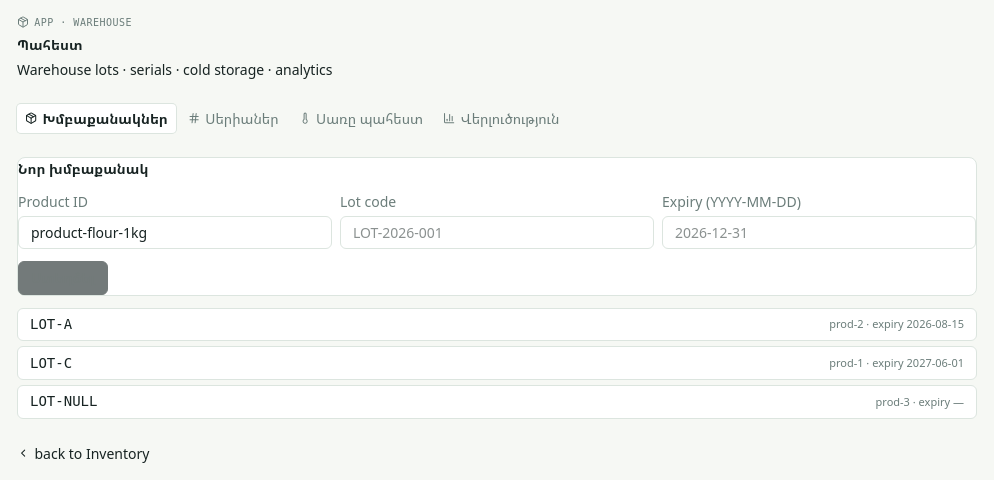
Warehouse — tab strip › switches to the Cold Storage tab on click
Click the tab with test id "warehouse-tab-cold".
click(361, 118)  # box [290, 104, 431, 132]
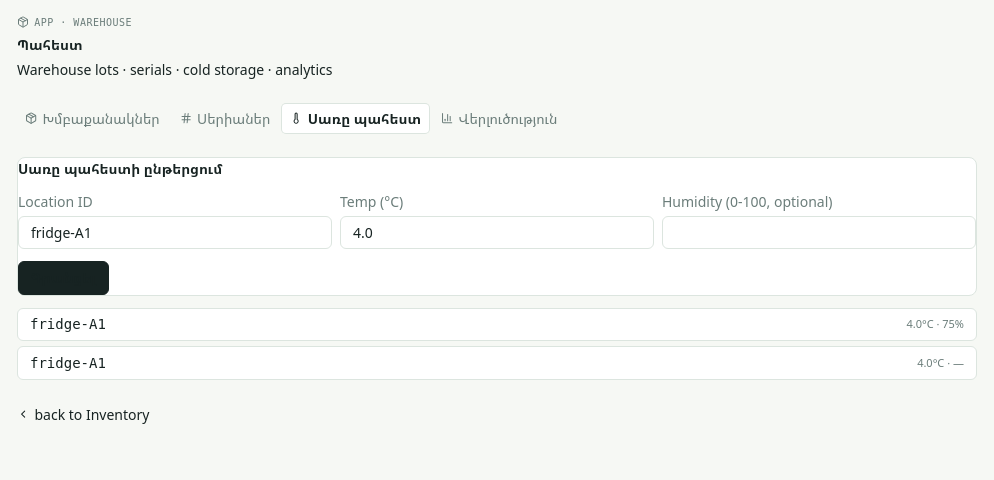
Result: the form with test id "warehouse-cold-storage-form" is shown at [17, 156, 977, 296]
Result: the form with test id "warehouse-lot-form" is gone
